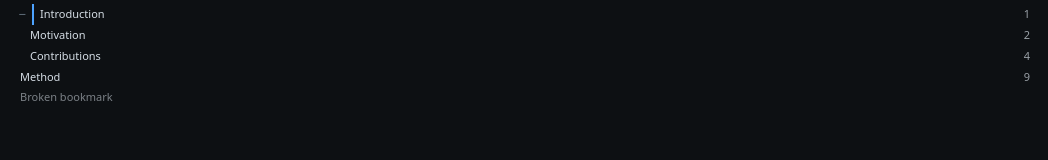
it: the reader outline › collapses a branch without navigating or losing the rest of the outline
Click the button with class "outline-toggle": (22, 14) [12,6,32,22]
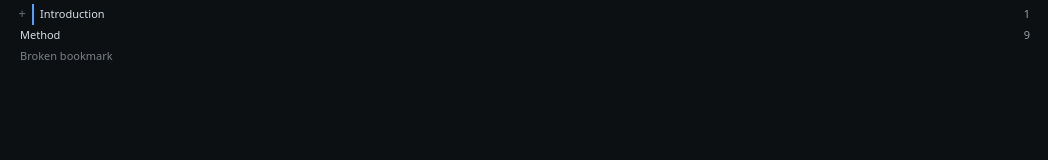
Expected: the text "Method" is shown, [20,27,60,42]
Expected: the button with class "outline-toggle" is collapsed
Expected: the text "Motivation" is gone
Click the button with class "outline-toggle": (22, 14) [12,6,32,22]
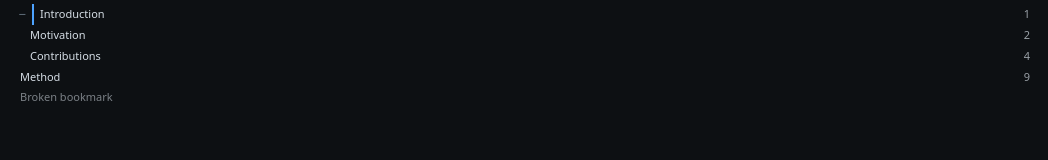
Expected: the text "Motivation" is shown, [30,27,86,42]
